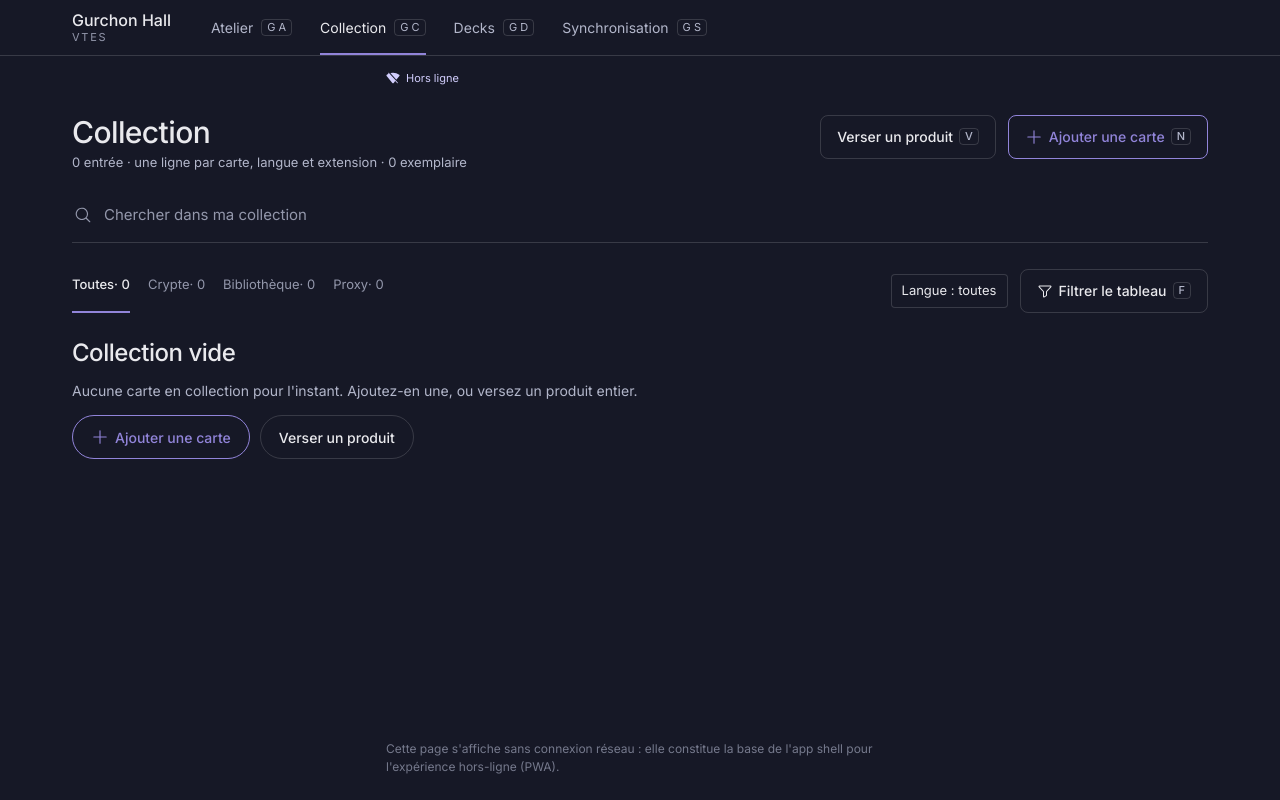
Test: collection : saisie hors ligne › enregistre en file sans aucun appel réseau, affiche l'entrée et l'état de synchronisation
Click the button with test id "stock-add" at (161, 437), box [72, 415, 250, 459]
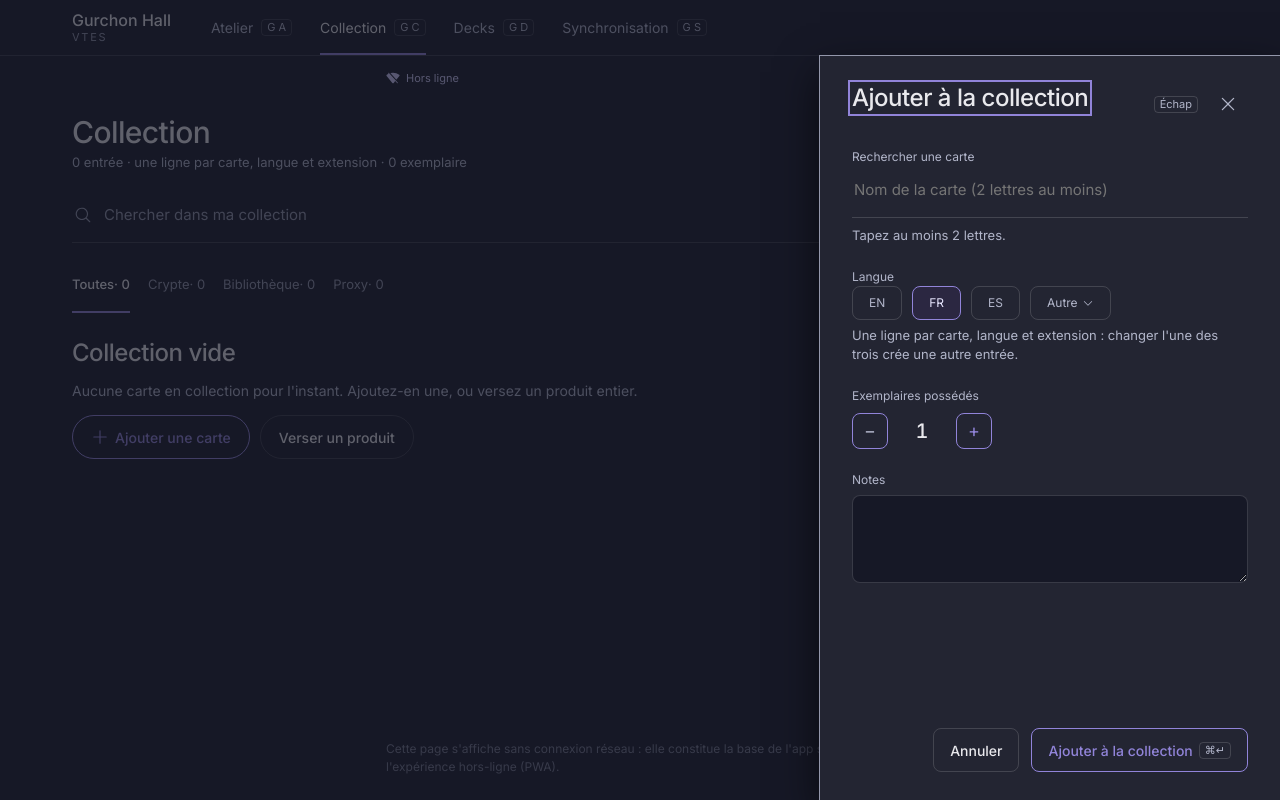
Type "elan" into the search field labelled "Rechercher une carte" at (1050, 196), box [852, 174, 1248, 218]
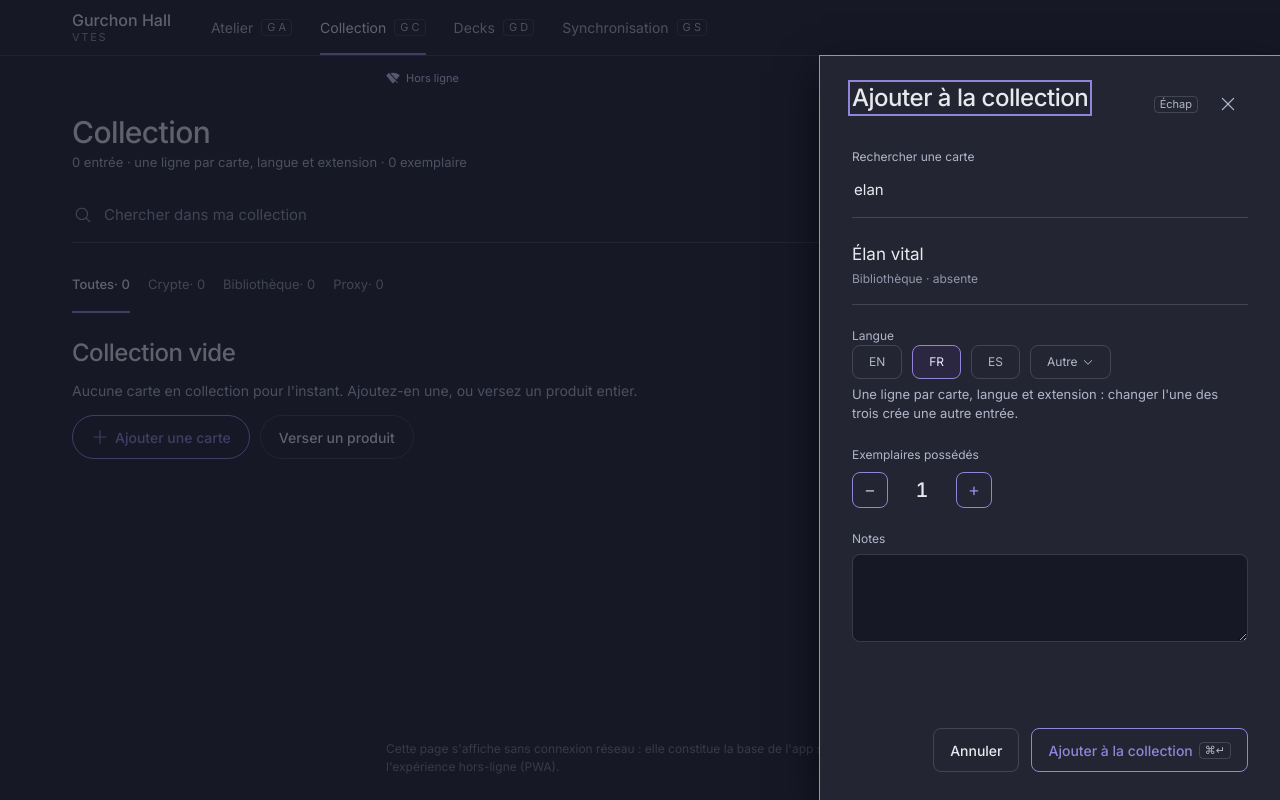
Click the button with test id "card-picker-option" at (888, 254), box [852, 226, 1248, 304]
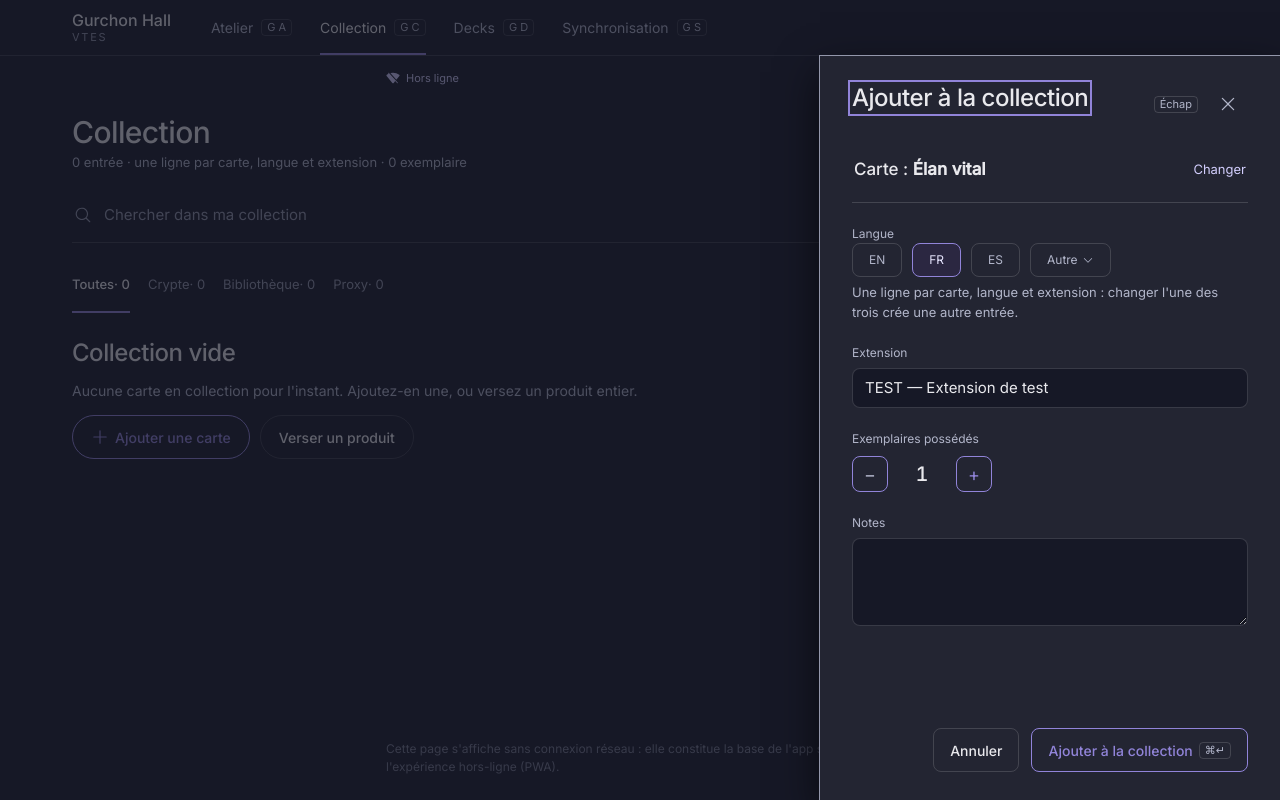
Check: the element with test id "stock-form-card" is shown, box [852, 148, 1248, 203]
Check: the element with test id "stock-form-card" shows "Élan vital", box [913, 159, 986, 179]
Replace the text in the number field labelled "Exemplaires possédés" with "3" at (922, 474), box [898, 459, 946, 489]
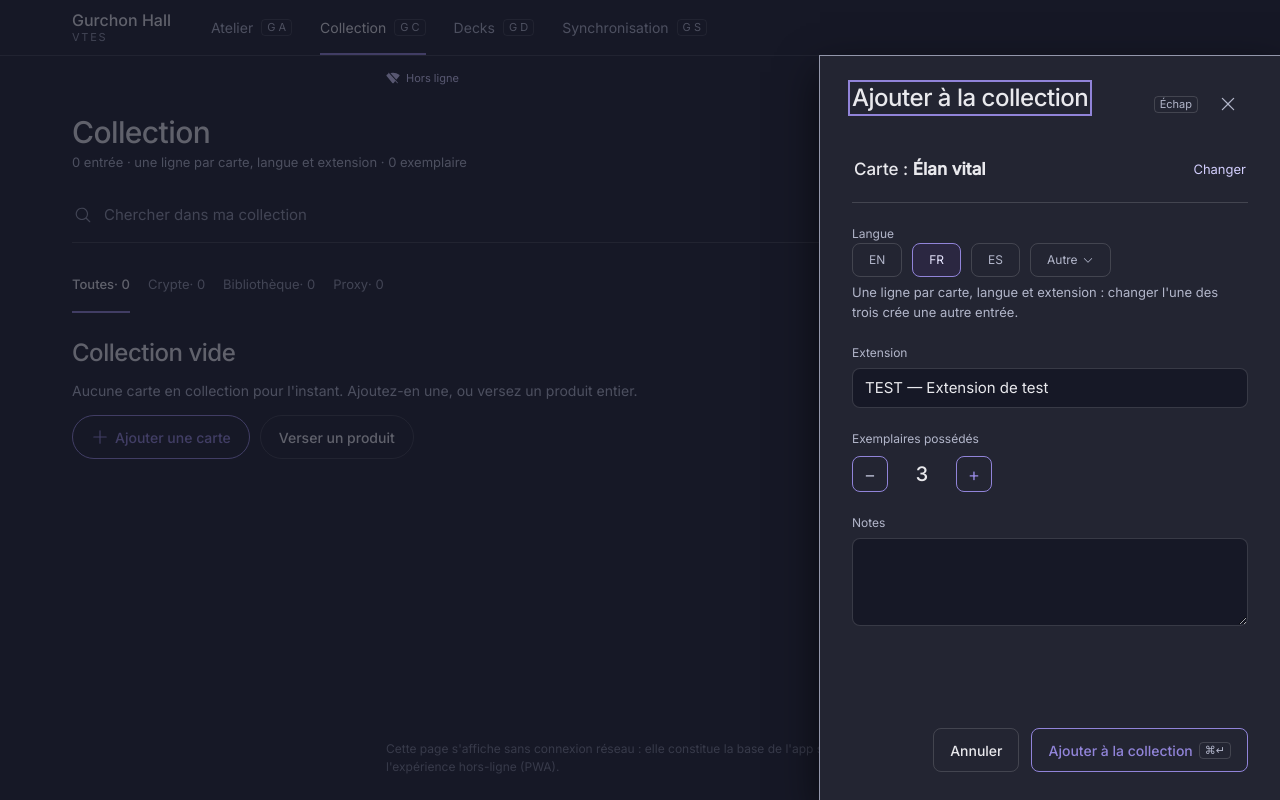
Check: the dropdown with test id "stock-form-card-set" shows "TEST — Extension de test", box [852, 368, 1248, 408]
Click the button with test id "stock-form-submit" at (1140, 750), box [1032, 728, 1248, 772]
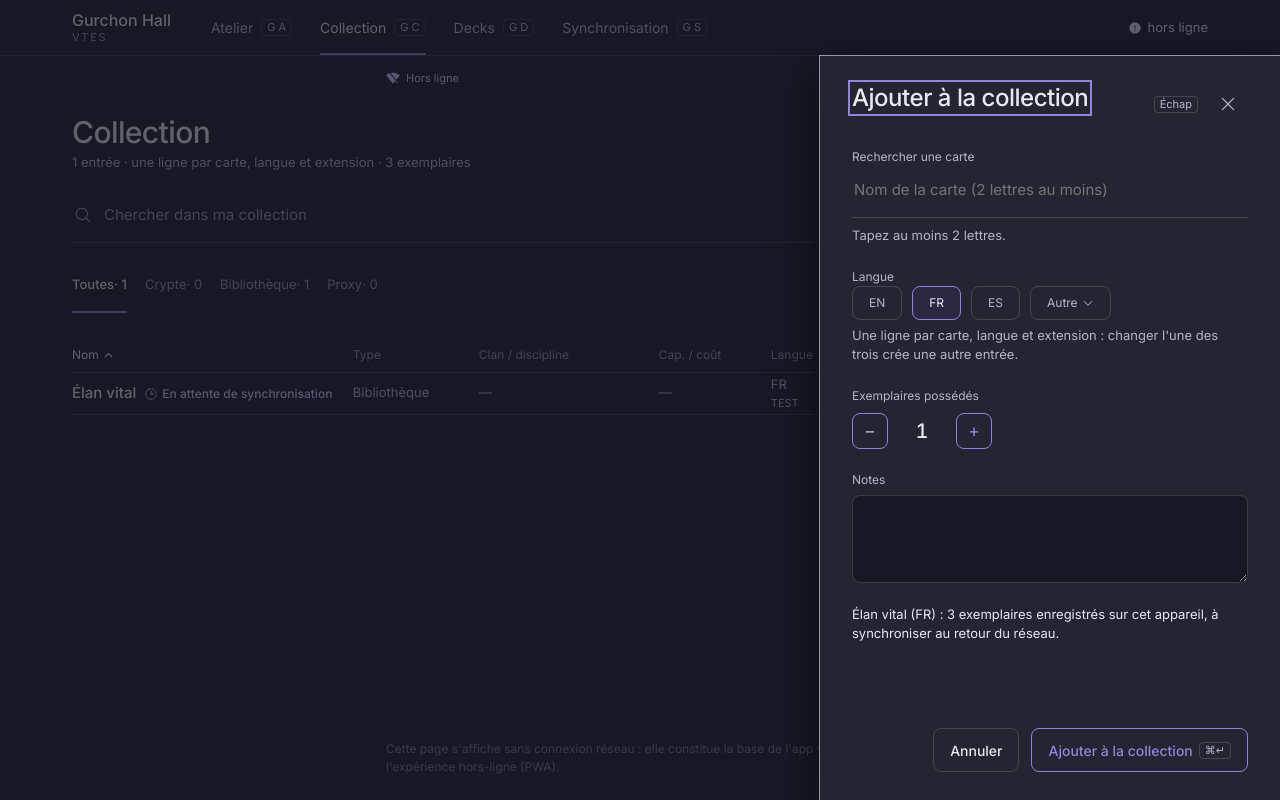
Check: the row with test id "stock-entry" is shown, box [72, 372, 1208, 414]
Check: the text with test id "stock-entry-card-set" reads "TEST", box [771, 396, 799, 410]
Check: the text with test id "stock-entry-quantity" reads "3", box [859, 384, 867, 400]
